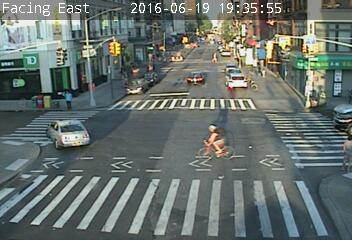neg: (193, 117, 229, 165), (292, 90, 320, 128), (106, 80, 133, 117), (155, 60, 170, 80)
pos: (59, 87, 80, 115), (209, 48, 221, 64)
